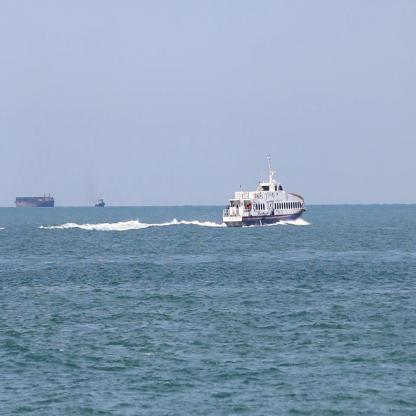Container Ship: (14, 191, 56, 210), (93, 192, 107, 210)
